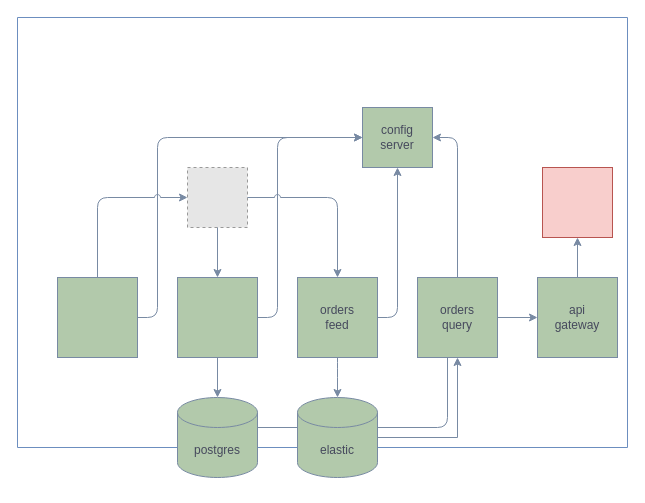
Image size: 645x503. Some labels were removed from this diagram. Grey dashed boxes stand in for pictures. The centre of each missing label's shape, as x and y in pixels:
identity provider for token based authn: point (577, 202)
orders analytics dump: point (217, 317)
orders stream: point (97, 317)
